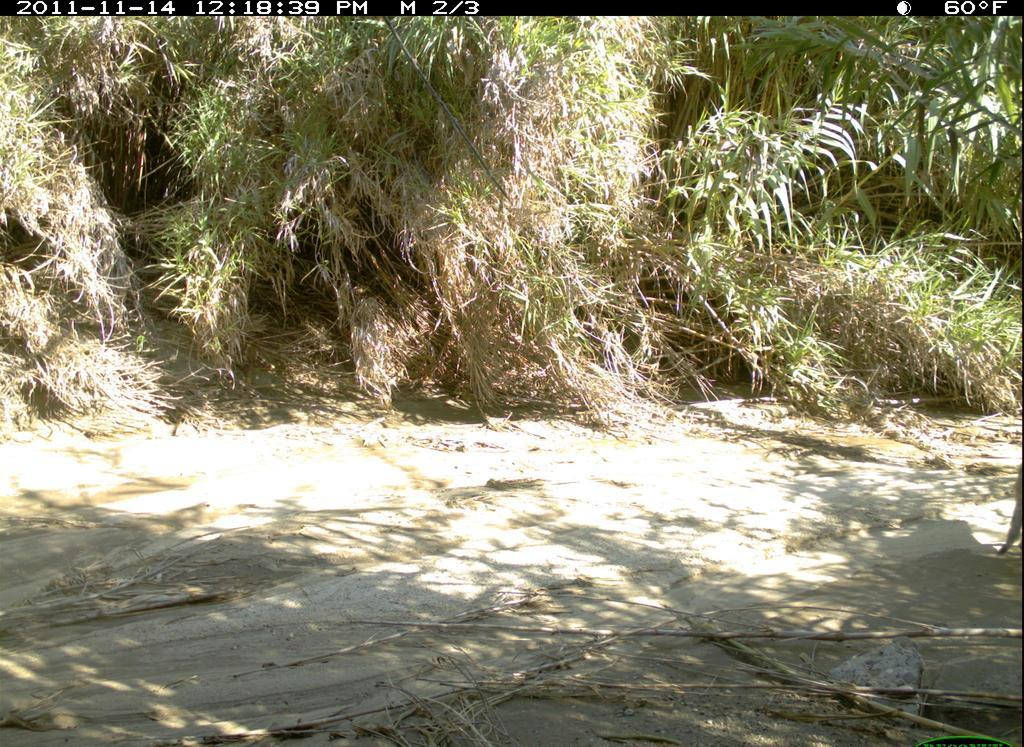coyote: (996, 454, 1023, 568)
